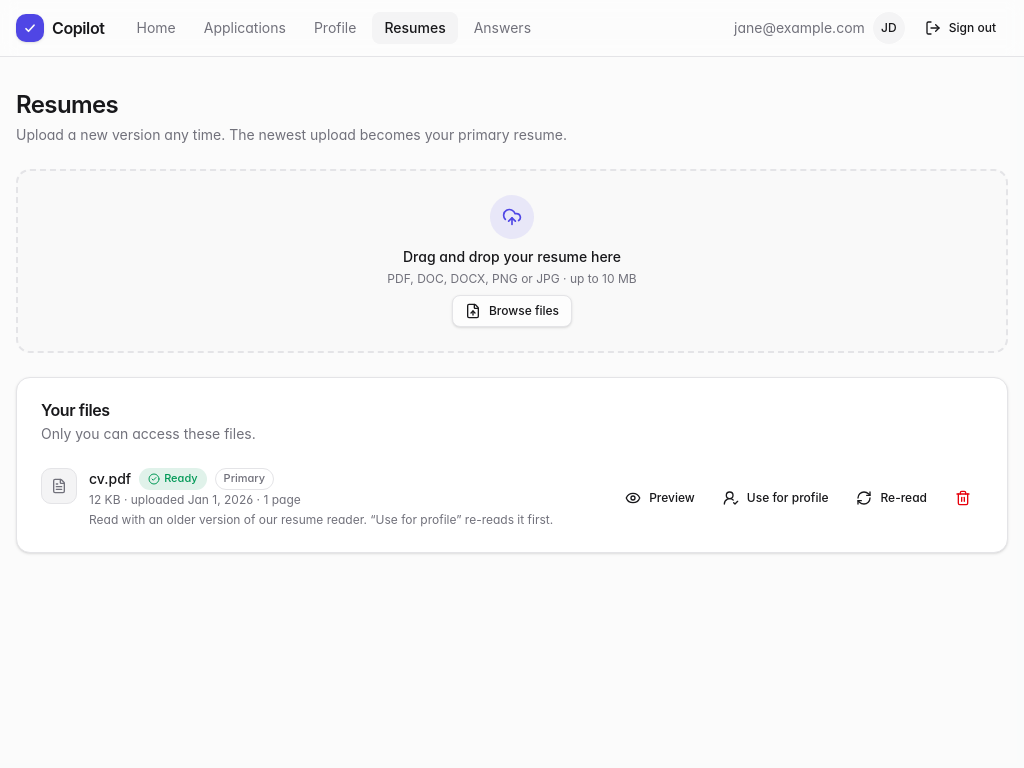
Test: resumes page › re-reads a resume parsed by an older parser before using it for the profile
Later steps or results of the test are not shown.
Expected: the text "Read with an older version of our resume reader" is shown, [89, 512, 553, 527]
Click the button "Use for profile" at (776, 498), box [711, 482, 840, 514]
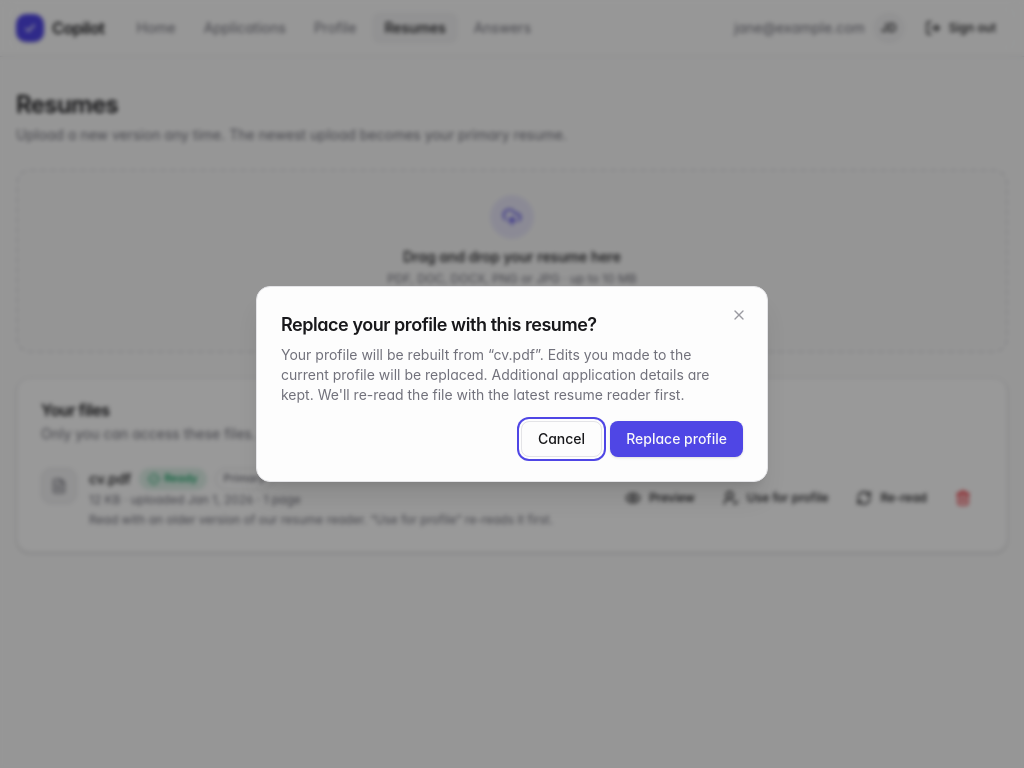
Expected: the text "re-read the file with the latest resume reader first" is shown, [314, 386, 684, 403]
